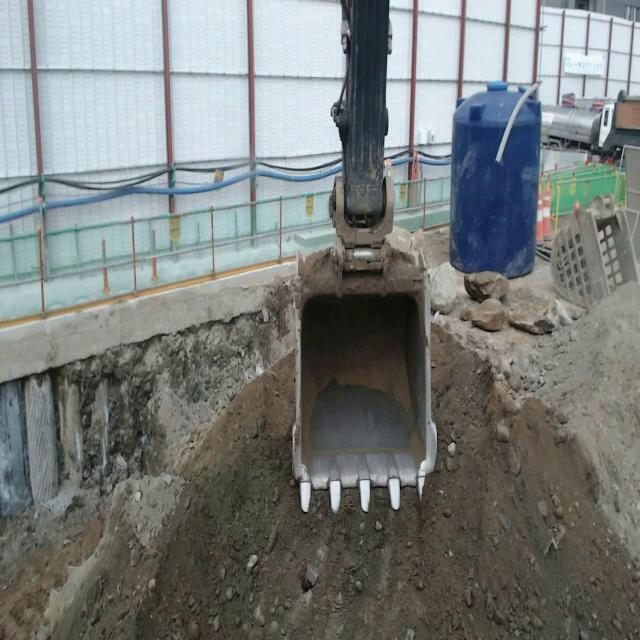red-sand: (0, 332, 640, 639)
stone: (507, 297, 571, 334), (464, 271, 510, 302), (430, 262, 456, 314), (470, 298, 506, 330)
white-sand: (536, 283, 640, 559)
